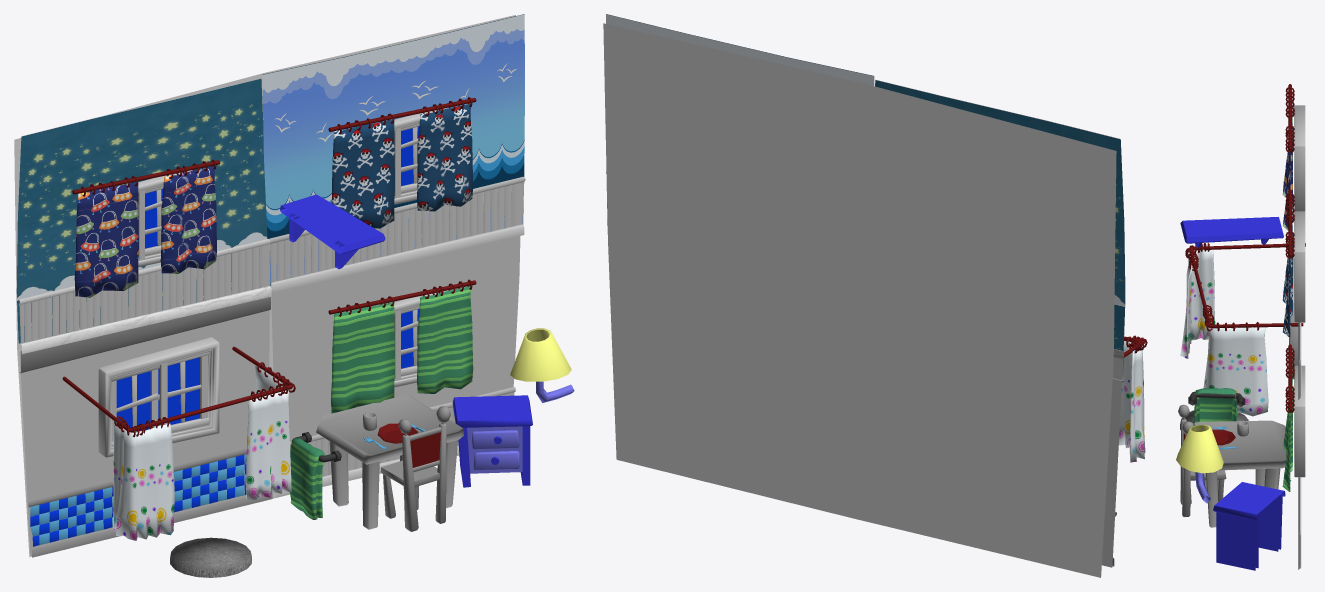
Rendered from StaticObjects.FBX.
The picture shows the model from 3 angles, left to right: view 1: azimuth 30°, elevation 25°; view 2: azimuth 150°, elevation 25°; view 3: azimuth 270°, elevation 25°; orthographic projection. The views are drawn at different scales.
Visible parts, largest first — view 1: windowClosed (×3), wallWindow1, wallWindow2, BathroomWall, wallWindow3, BathroomCourtain, chairTable, BathroomWindow, bedsideTable, Sky, shelf, Back (+4 smaller); view 2: Back, wallWindow1, BathroomCourtain, wallWindow2, BathroomWall; view 3: BathroomCourtain, windowClosed (×3), chairTable, bedsideTable, shelf, lampShade, BathroomTowelRail, crockery, BathroomWindow, wallWindow3, wallWindow2, lampWall.
Boxes of the visible parts, x1,y1,x2,y2 form: windowClosed (×3): (72,97,476,413); wallWindow1: (16,78,271,353); wallWindow2: (262,14,525,292); BathroomWall: (19,297,272,557); wallWindow3: (271,236,520,497); BathroomCourtain: (62,346,295,540); chairTable: (316,395,463,531); BathroomWindow: (98,337,219,457); bedsideTable: (452,395,532,487); Sky: (116,126,419,432); shelf: (280,194,385,269); Back: (14,15,515,557); Back: (603,23,1116,577); wallWindow1: (875,79,1125,355); BathroomCourtain: (1118,335,1147,462); wallWindow2: (606,14,874,225); BathroomWall: (1102,354,1124,567); BathroomCourtain: (1180,243,1305,416); windowClosed (×3): (1282,84,1305,491); chairTable: (1178,404,1286,527); bedsideTable: (1213,482,1285,570); shelf: (1180,217,1283,247); lampShade: (1176,424,1223,473); BathroomTowelRail: (1188,388,1245,425); crockery: (1211,421,1248,449); BathroomWindow: (1289,258,1298,379); wallWindow3: (1298,477,1301,569); wallWindow2: (1298,322,1301,399); lampWall: (1195,472,1210,503).
Bounding box in the file's own units: 82.91 × 67.38 × 22.53.
